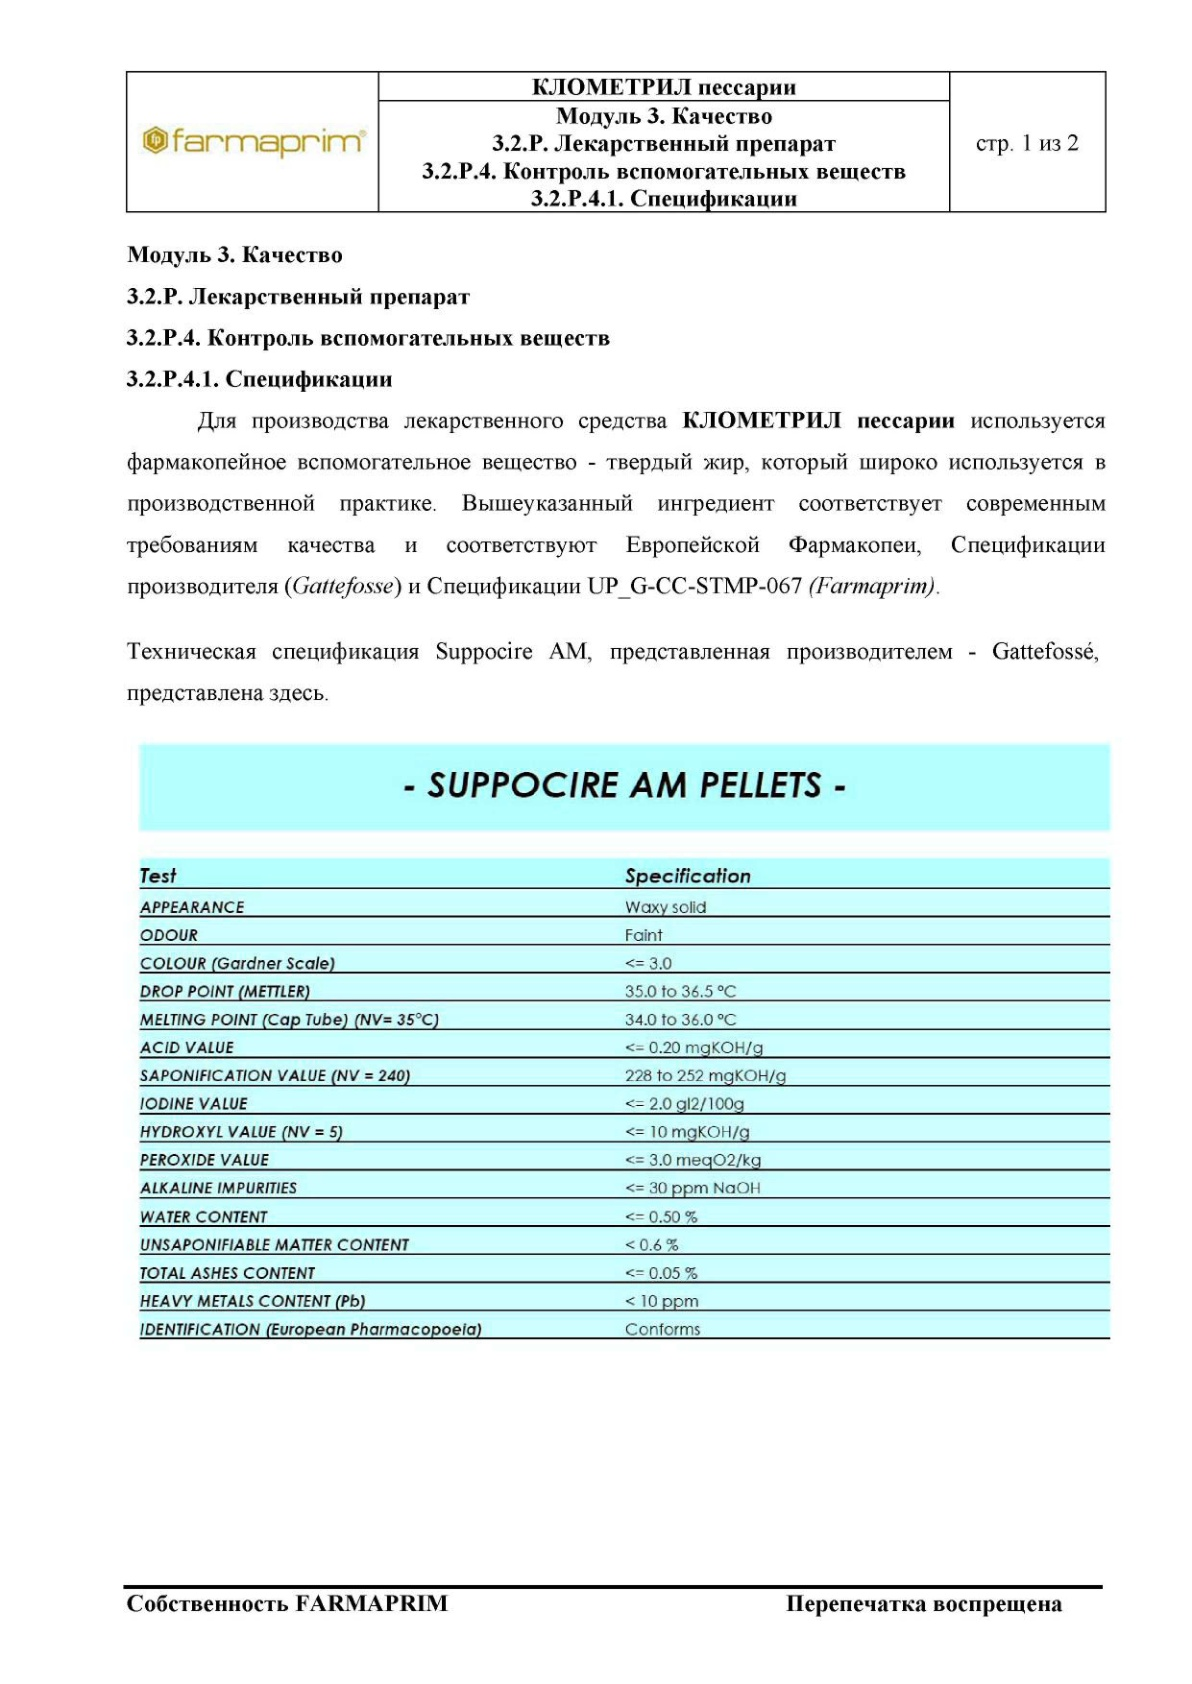merged_cells: (125, 70, 1107, 214)
partial_lined: (138, 855, 1109, 1340)
